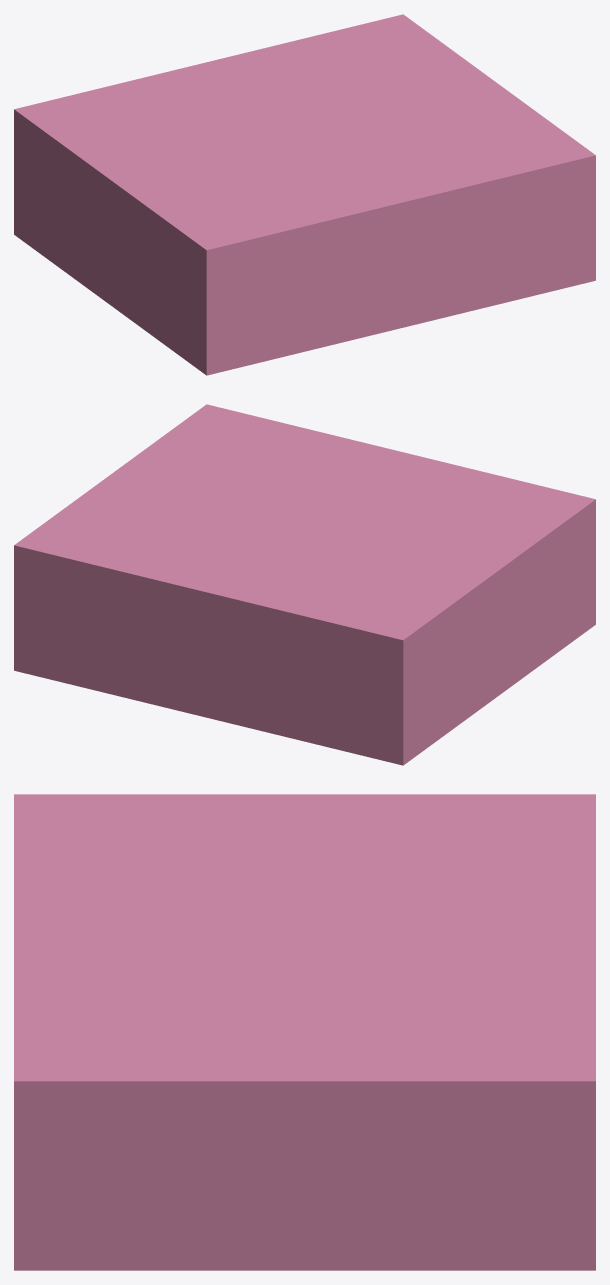
Rendered from utah_rock_small_c.dae.
3 renders of one model, top to bottom at view 1: azimuth 30°, elevation 25°; view 2: azimuth 150°, elevation 25°; view 3: azimuth 270°, elevation 25°, orthographic. The views are drawn at different scales.
Parts seen in each view (by area): view 1: Untitled; view 2: Untitled; view 3: Untitled.
Boxes of the visible parts, bbox=[...] form: Untitled: bbox=[14, 14, 595, 375]; Untitled: bbox=[14, 404, 595, 765]; Untitled: bbox=[14, 794, 595, 1270].
Size of the model in its own units: 1.18 by 1.02 by 0.3645.
